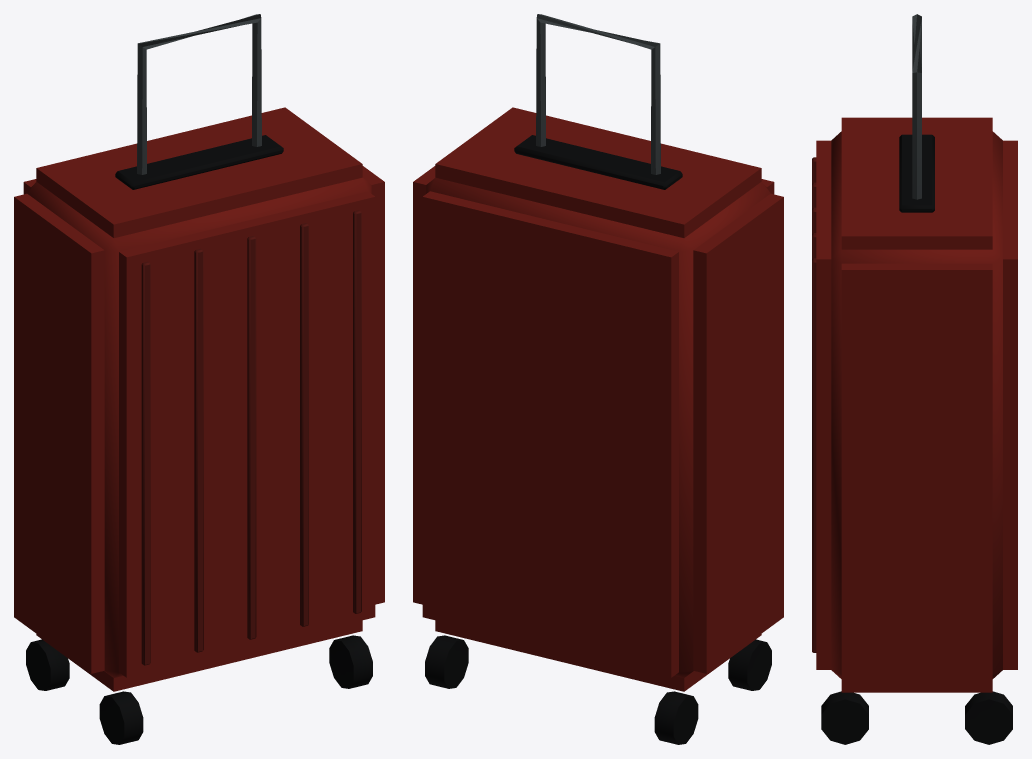
Rendered from ap-suitcase-b.glb.
3 views of the same model, side by side, from view 1: azimuth 30°, elevation 25°; view 2: azimuth 150°, elevation 25°; view 3: azimuth 270°, elevation 25° (orthographic). The views are drawn at different scales.
Parts seen in each view (by area): view 1: shell__plastic, handle__chrome, wheels__rubber; view 2: shell__plastic, handle__chrome, wheels__rubber; view 3: shell__plastic, wheels__rubber, handle__chrome.
Boxes of the visible parts, box(x1,y1,x2,y2) form: shell__plastic: box(14, 107, 384, 691); handle__chrome: box(115, 14, 283, 189); wheels__rubber: box(26, 635, 372, 744); shell__plastic: box(413, 107, 783, 691); handle__chrome: box(514, 14, 682, 189); wheels__rubber: box(425, 635, 771, 744); shell__plastic: box(812, 117, 1017, 692); wheels__rubber: box(821, 691, 1012, 744); handle__chrome: box(899, 14, 934, 212).
Bounding box in the file's own units: 0.46 × 0.9854 × 0.286.
